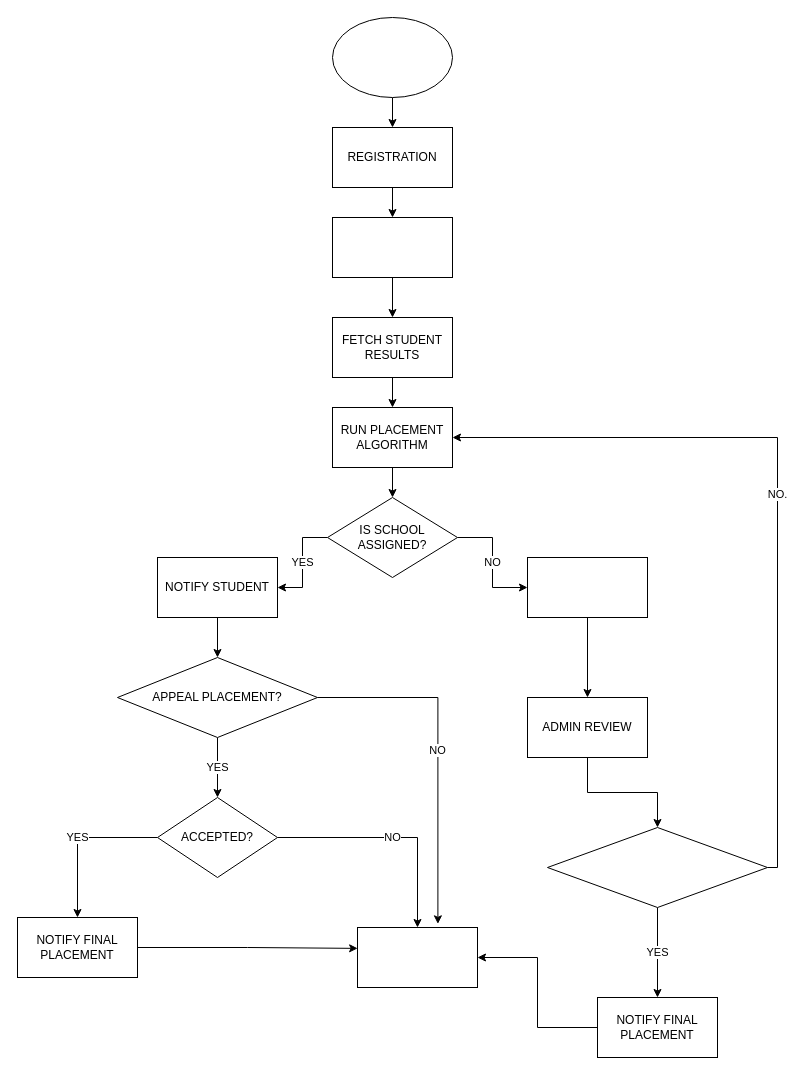
The diagram is 805 pixels wide and 1075 high, and some of its shapes have lost their labels. Here are the shapes that lost their labels. From the top down, the box of each, then its label:
(332, 16, 452, 98): START
(332, 216, 452, 278): SELECT PREFERRED SCHOOLS
(526, 556, 648, 618): NOTIFY ADMIN
(546, 826, 768, 908): MANUAL PLACEMENT?
(356, 926, 478, 988): END
